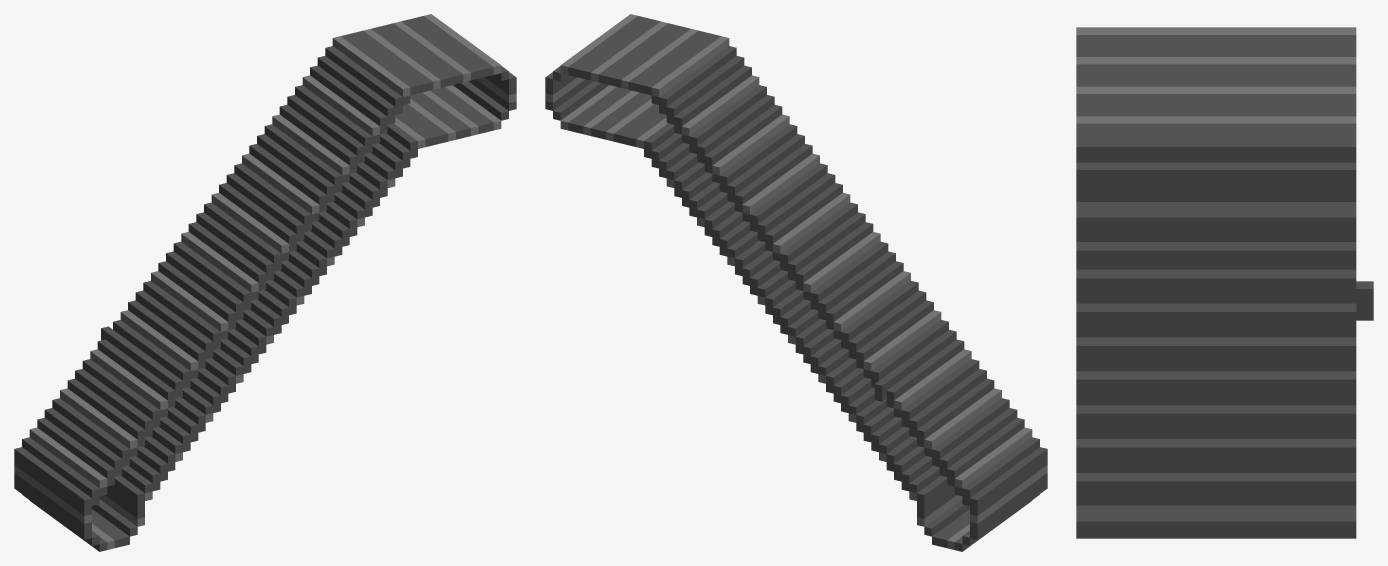
Rendered from конвеер новый1.obj.
The picture shows the model from 3 angles, left to right: view 1: azimuth 30°, elevation 25°; view 2: azimuth 150°, elevation 25°; view 3: azimuth 270°, elevation 25°; orthographic projection. The views are drawn at different scales.
Bounding box in the file's own units: 5.7 × 4.9 × 1.7.
Materials: 1 (1 with a texture image).
